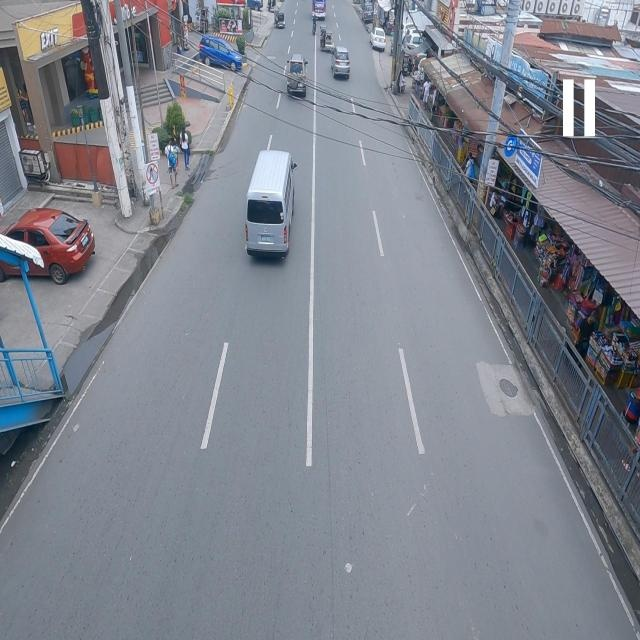Motorcycle: (312, 12, 317, 36)
Van: (245, 149, 297, 262)
